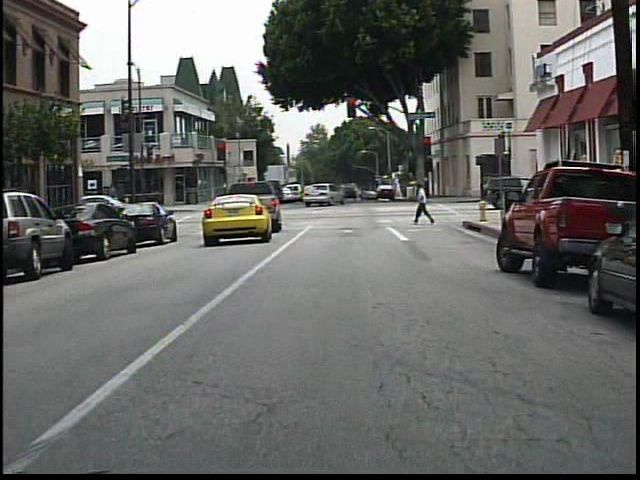person: (412, 180, 437, 226)
